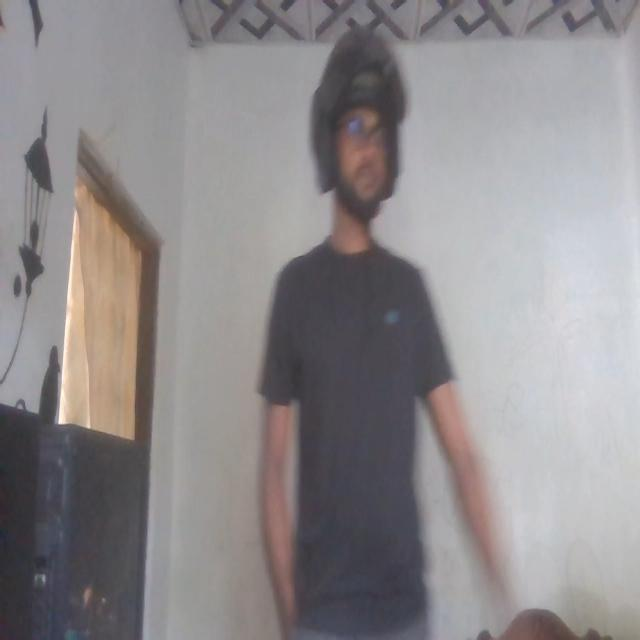Helmet_Wearer: (298, 18, 415, 244)
Person: (257, 8, 497, 640)
